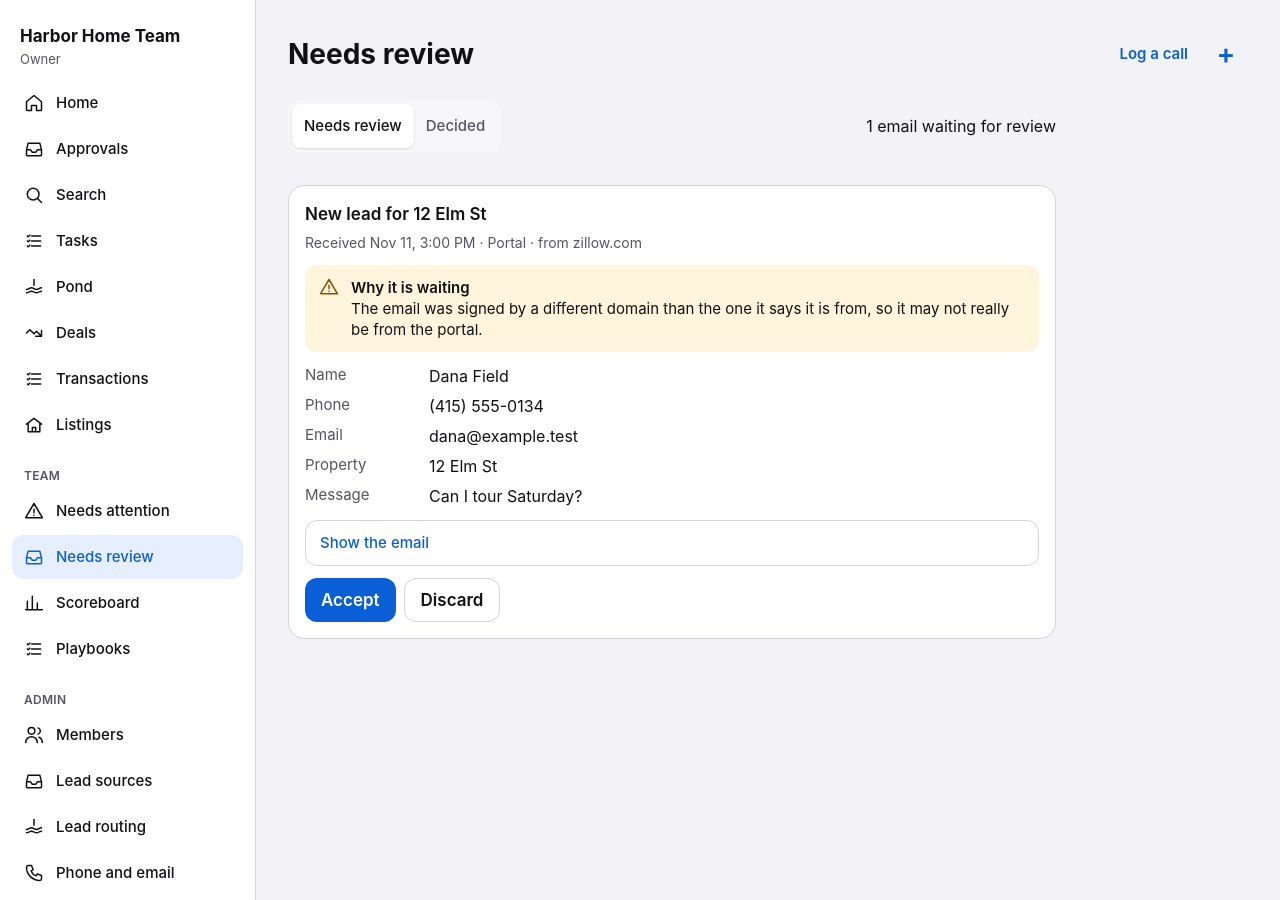
Test: Needs review › the server refusing for lack of a contact point is a sentence and opens the form
Click the button with aria-label "Accept: New lead for 12 Elm St". click: click(350, 600)
box: [305,578,396,622]
(page scrolled)
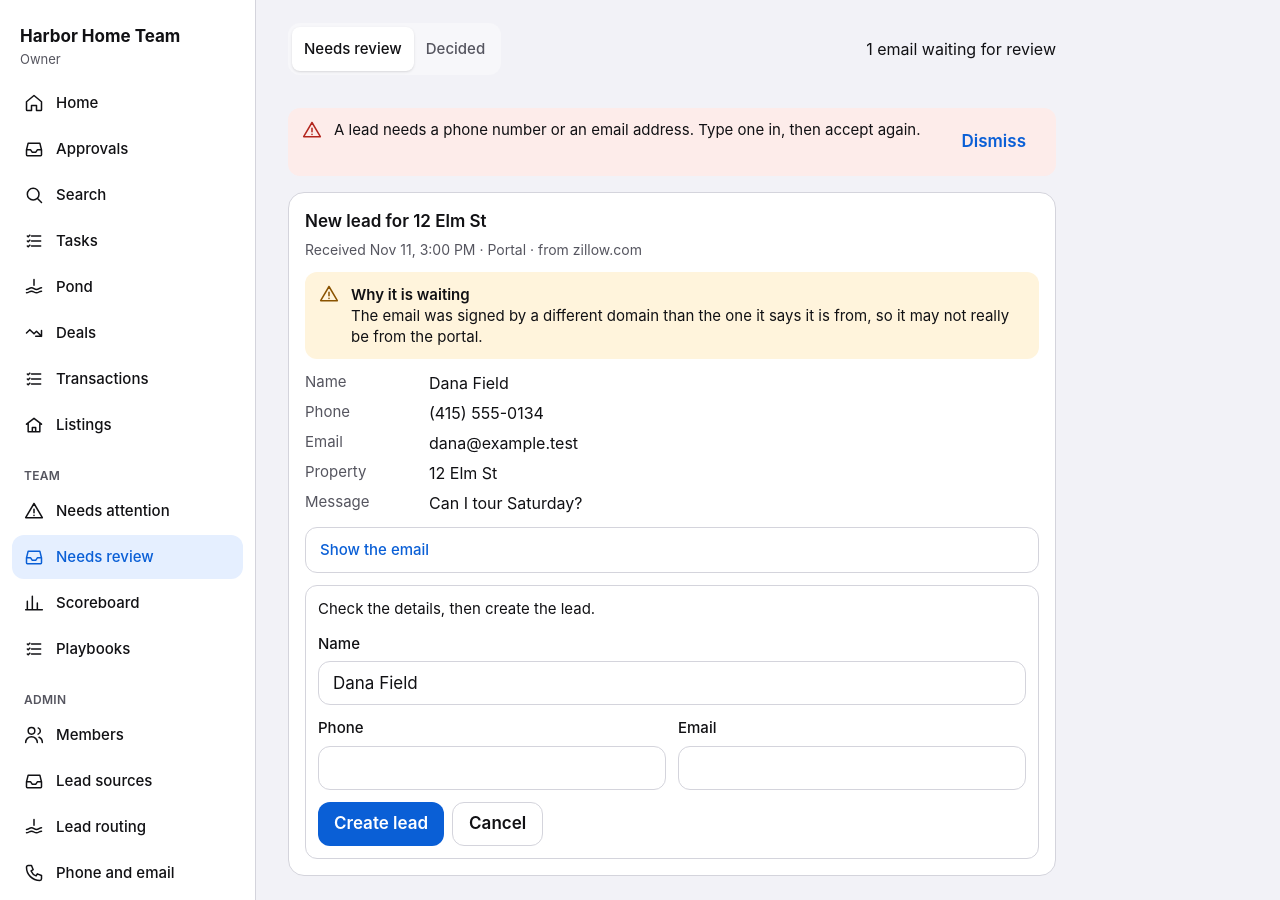
Now the text "A lead needs a phone number or an email address. Type one in, then accept again." is shown, box [334,120,934,141]
Now the form named "Accept as a lead" is shown, box [305,585,1039,859]
